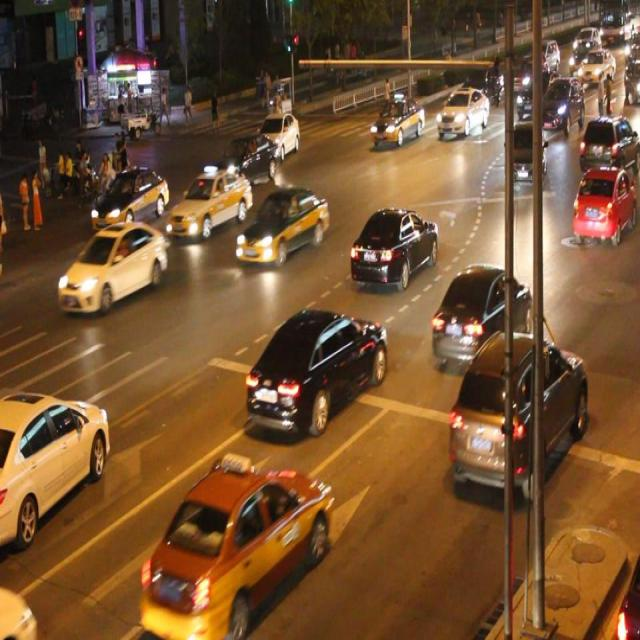car: (141, 467, 330, 640), (449, 335, 586, 489), (246, 308, 387, 435), (1, 388, 110, 544), (429, 263, 532, 359), (58, 220, 165, 312), (349, 204, 438, 288), (237, 187, 328, 267), (569, 166, 640, 244), (168, 170, 252, 234), (92, 167, 169, 226), (579, 115, 640, 172), (215, 131, 275, 182), (434, 85, 488, 138), (369, 96, 424, 146), (508, 122, 544, 180), (257, 112, 299, 158)
